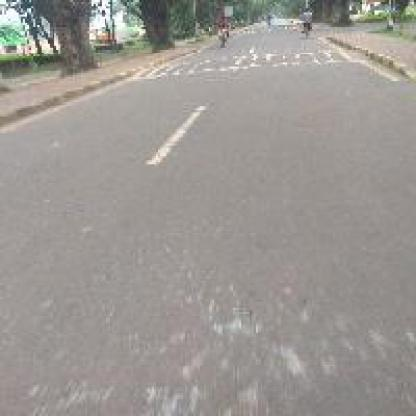Speed Bump: (125, 46, 347, 81)
